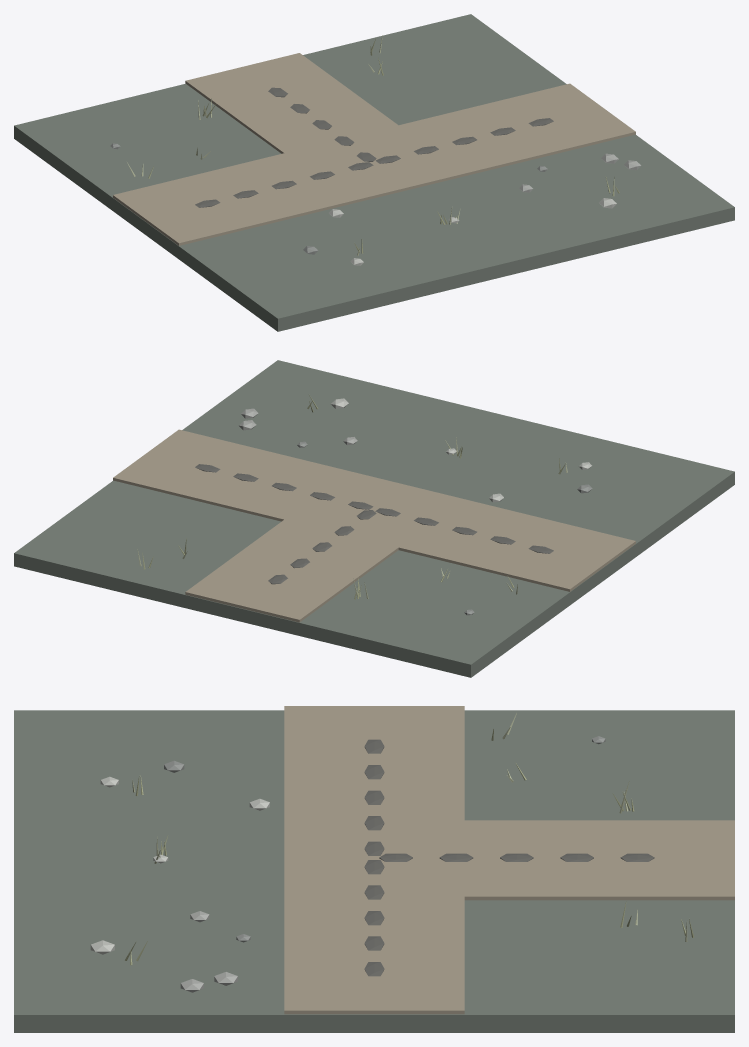
The model's file is path_tee_new.glb.
The picture shows the model from 3 angles, top to bottom: view 1: azimuth 30°, elevation 25°; view 2: azimuth 150°, elevation 25°; view 3: azimuth 270°, elevation 25°; orthographic projection. The views are drawn at different scales.
Parts seen in each view (by area): view 1: road_material_00, road_material_01, road_material_07; view 2: road_material_00, road_material_01, road_material_07; view 3: road_material_00, road_material_01, road_material_07, road_material_06, road_material_05, road_material_03.
Part boxes in pixels (x1,y1,x2,y2): road_material_00: (14, 14, 734, 331); road_material_01: (113, 53, 635, 245); road_material_07: (195, 87, 553, 207); road_material_00: (14, 360, 734, 677); road_material_01: (113, 429, 635, 622); road_material_07: (195, 464, 553, 584); road_material_00: (14, 710, 734, 1032); road_material_01: (284, 706, 734, 1014); road_material_07: (364, 739, 654, 976); road_material_06: (90, 776, 269, 954); road_material_05: (180, 911, 237, 992); road_material_03: (125, 729, 693, 965).
Bounding box in the file's own units: 8 × 0.5388 × 8.
